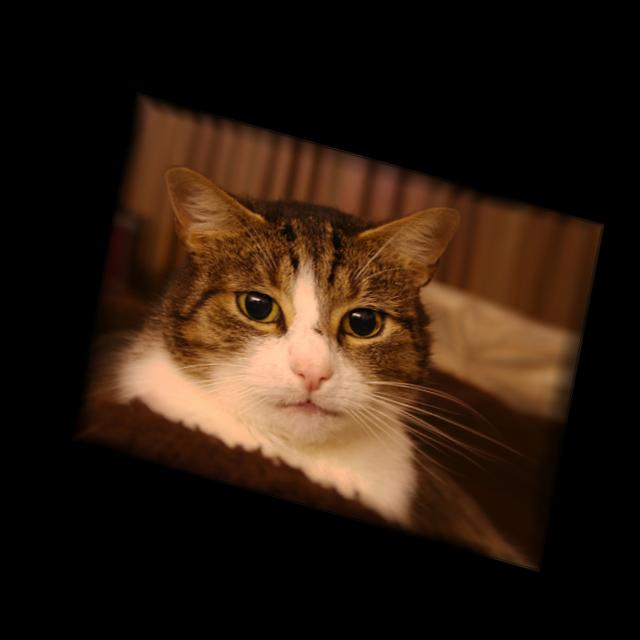animals: (122, 129, 463, 420)
